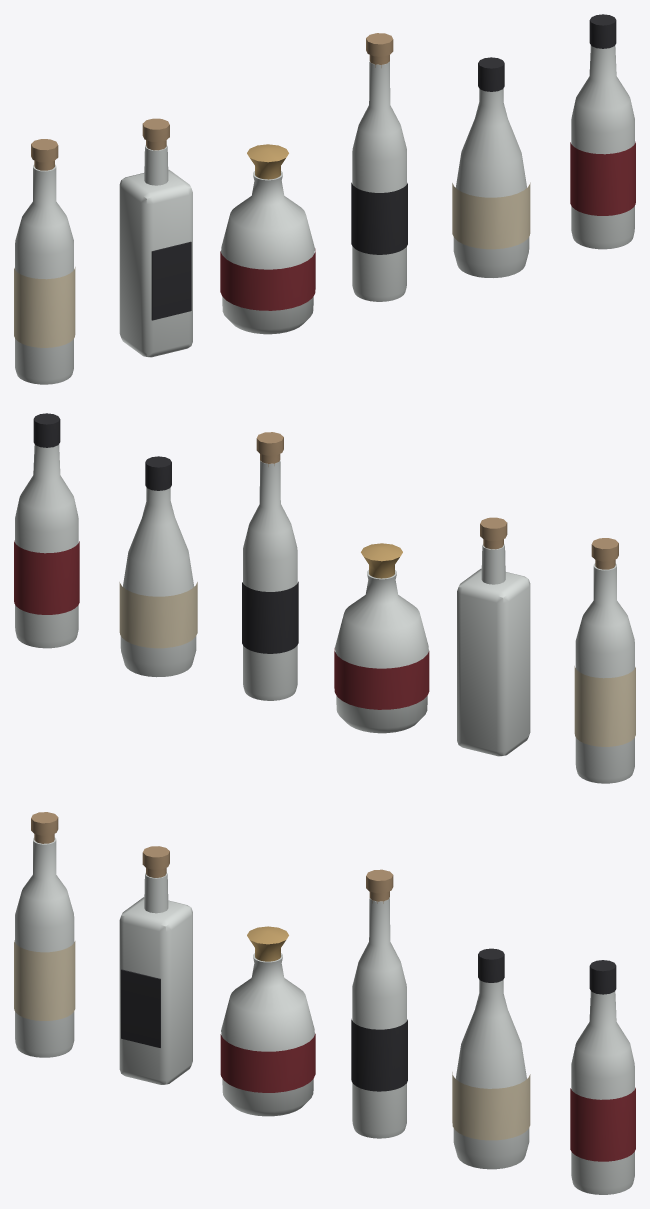
Rendered from whiskey-bottles-lod0.glb.
The picture shows the model from 3 angles, top to bottom: view 1: azimuth 30°, elevation 25°; view 2: azimuth 150°, elevation 25°; view 3: azimuth 330°, elevation 25°; orthographic projection.
Parts seen in each view (by area): view 1: whiskey-bottles.lod0__whiskey crystal, whiskey-bottles.lod0__whiskey label cream, whiskey-bottles.lod0__whiskey label ink, whiskey-bottles.lod0__whiskey label burgundy, whiskey-bottles.lod0__whiskey cork, whiskey-bottles.lod0__furniture brushed brass; view 2: whiskey-bottles.lod0__whiskey crystal, whiskey-bottles.lod0__whiskey label cream, whiskey-bottles.lod0__whiskey label burgundy, whiskey-bottles.lod0__whiskey label ink, whiskey-bottles.lod0__whiskey cork, whiskey-bottles.lod0__furniture brushed brass; view 3: whiskey-bottles.lod0__whiskey crystal, whiskey-bottles.lod0__whiskey label cream, whiskey-bottles.lod0__whiskey label burgundy, whiskey-bottles.lod0__whiskey label ink, whiskey-bottles.lod0__whiskey cork, whiskey-bottles.lod0__furniture brushed brass.
Boxes of the visible parts, x1=… form: whiskey-bottles.lod0__whiskey crystal: x1=15, y1=45, x2=634, y2=384; whiskey-bottles.lod0__whiskey label cream: x1=14, y1=182, x2=530, y2=347; whiskey-bottles.lod0__whiskey label ink: x1=151, y1=14, x2=616, y2=320; whiskey-bottles.lod0__whiskey label burgundy: x1=220, y1=141, x2=635, y2=310; whiskey-bottles.lod0__whiskey cork: x1=31, y1=33, x2=393, y2=170; whiskey-bottles.lod0__furniture brushed brass: x1=247, y1=144, x2=288, y2=179; whiskey-bottles.lod0__whiskey crystal: x1=15, y1=444, x2=634, y2=783; whiskey-bottles.lod0__whiskey label cream: x1=119, y1=582, x2=635, y2=746; whiskey-bottles.lod0__whiskey label burgundy: x1=14, y1=540, x2=429, y2=709; whiskey-bottles.lod0__whiskey label ink: x1=33, y1=413, x2=298, y2=653; whiskey-bottles.lod0__whiskey cork: x1=256, y1=432, x2=618, y2=569; whiskey-bottles.lod0__furniture brushed brass: x1=361, y1=543, x2=402, y2=578; whiskey-bottles.lod0__whiskey crystal: x1=15, y1=837, x2=634, y2=1194; whiskey-bottles.lod0__whiskey label cream: x1=14, y1=940, x2=530, y2=1140; whiskey-bottles.lod0__whiskey label burgundy: x1=220, y1=1033, x2=635, y2=1161; whiskey-bottles.lod0__whiskey label ink: x1=121, y1=948, x2=616, y2=1091; whiskey-bottles.lod0__whiskey cork: x1=31, y1=812, x2=393, y2=903; whiskey-bottles.lod0__furniture brushed brass: x1=247, y1=926, x2=288, y2=961.
Bounding box in the file's own units: 0.934 × 0.367 × 0.1256.
